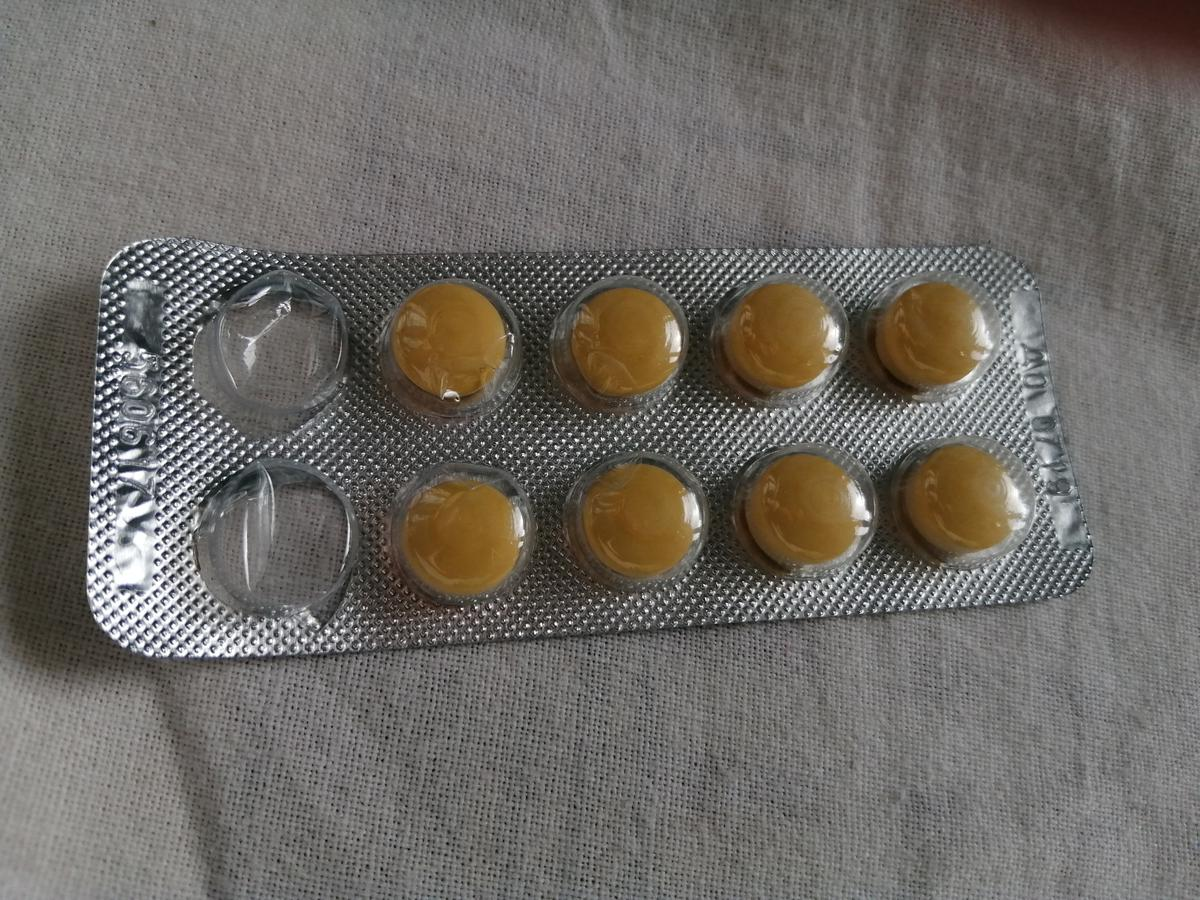tablet: (399, 467, 530, 600), (579, 454, 704, 590), (749, 443, 874, 579), (903, 433, 1034, 556), (393, 280, 520, 403), (563, 273, 684, 399), (872, 276, 993, 393), (730, 274, 842, 394)
